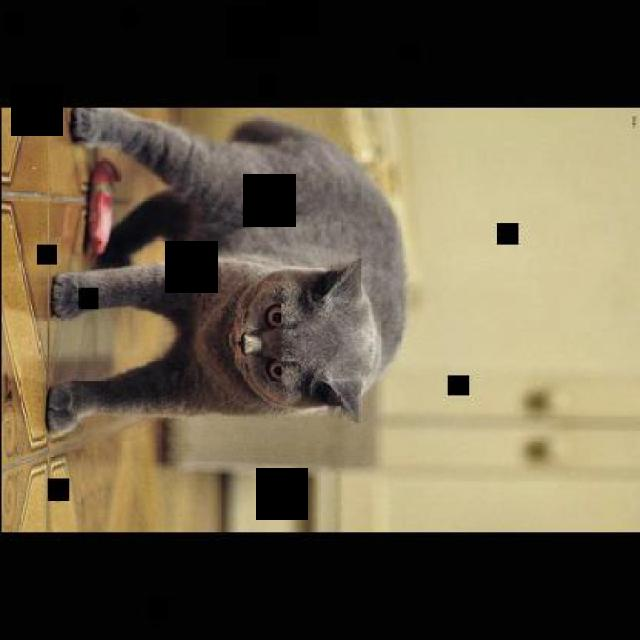unauthorized: (45, 106, 408, 439)
